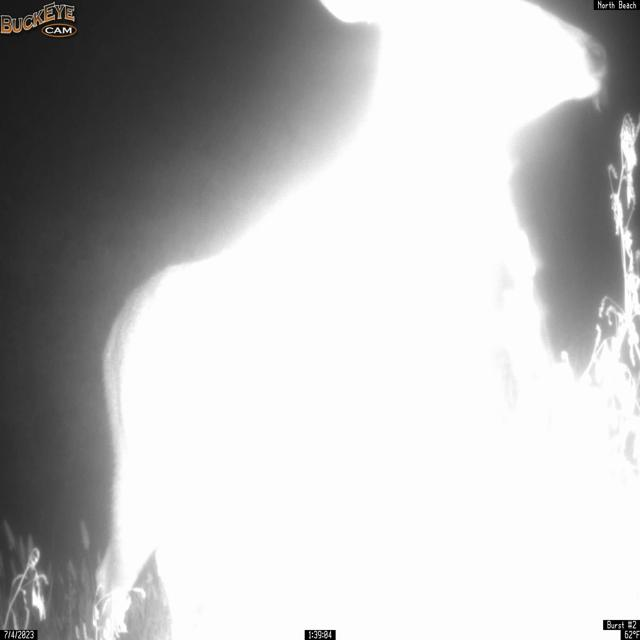deer: (90, 0, 613, 638)
